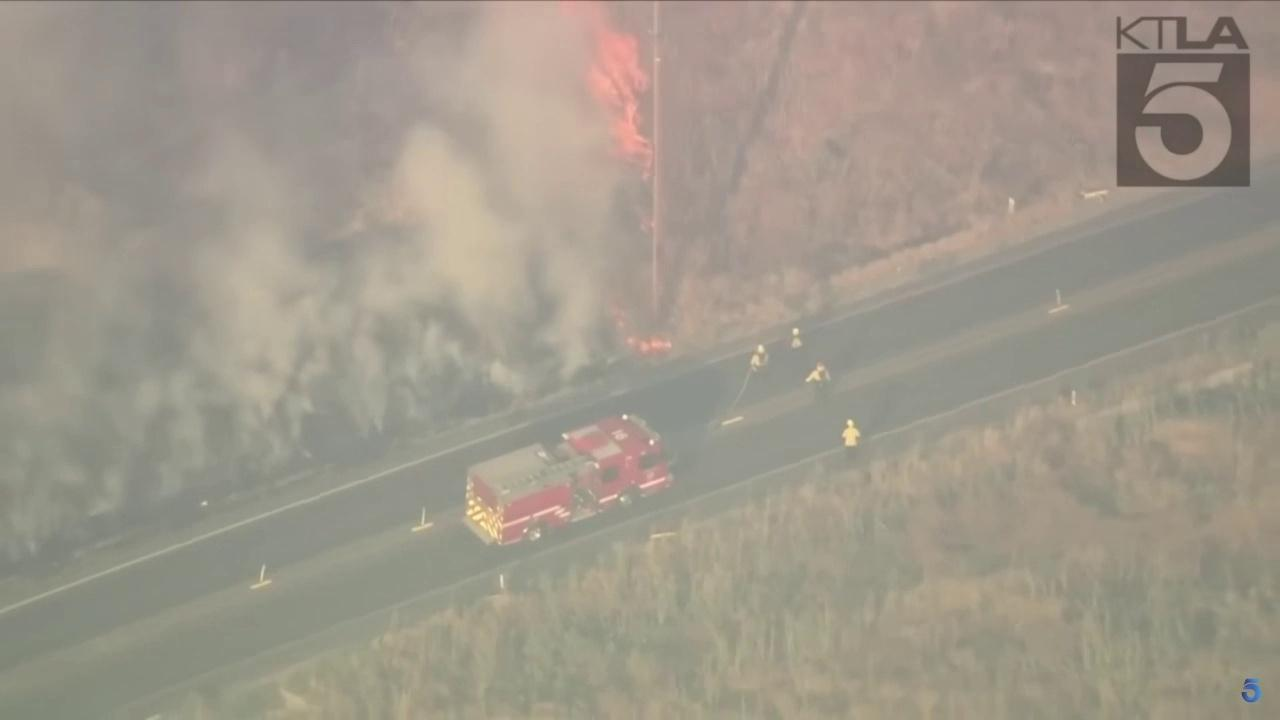fire: (583, 31, 653, 178), (626, 338, 674, 355)
smoke: (0, 0, 643, 550)
